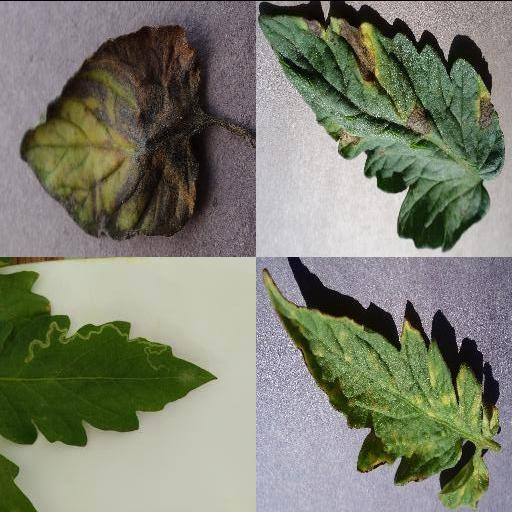Early Blight: (258, 14, 506, 250)
Late Blight: (19, 23, 203, 239)
Leaf Miner: (0, 315, 219, 447)
Leaf Mold: (263, 267, 501, 509)
